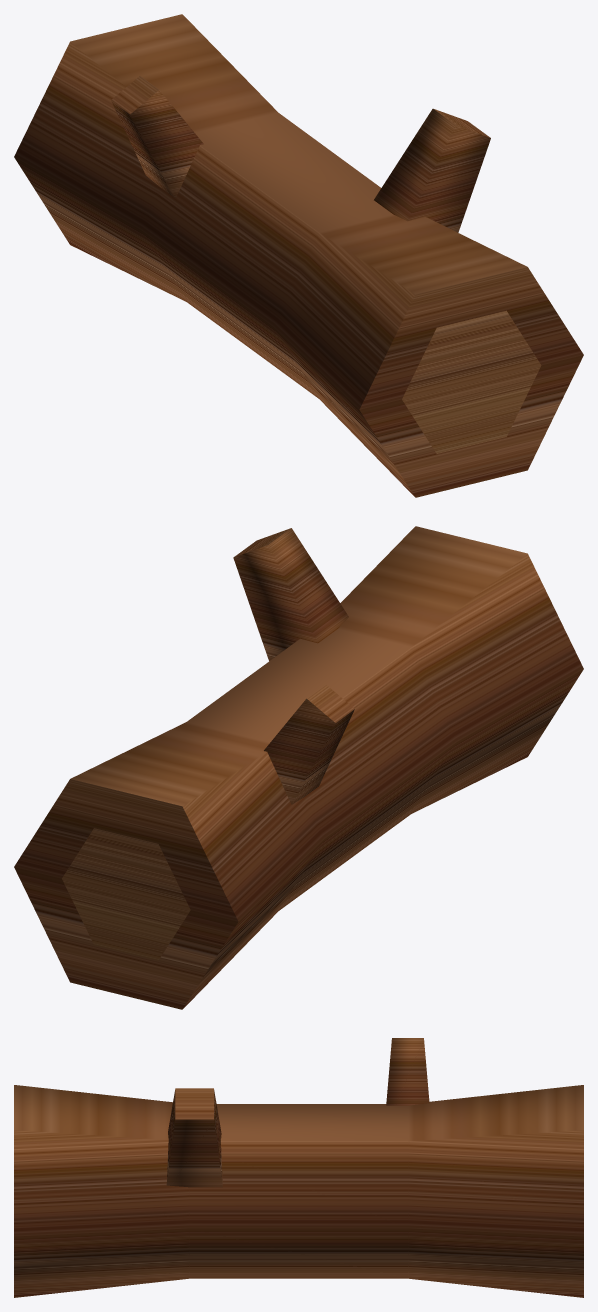
File: log.obj
3 renders of one model, top to bottom at view 1: azimuth 30°, elevation 25°; view 2: azimuth 150°, elevation 25°; view 3: azimuth 270°, elevation 25°, orthographic. The views are drawn at different scales.
Visible parts, largest first — view 1: tree-log-small; view 2: tree-log-small; view 3: tree-log-small.
Part boxes in pixels (x1,y1,x2,y2): tree-log-small: (14,14,583,497); tree-log-small: (14,526,583,1009); tree-log-small: (14,1038,583,1297).
Size of the model in its own units: 0.2495 by 0.2771 by 0.65.
